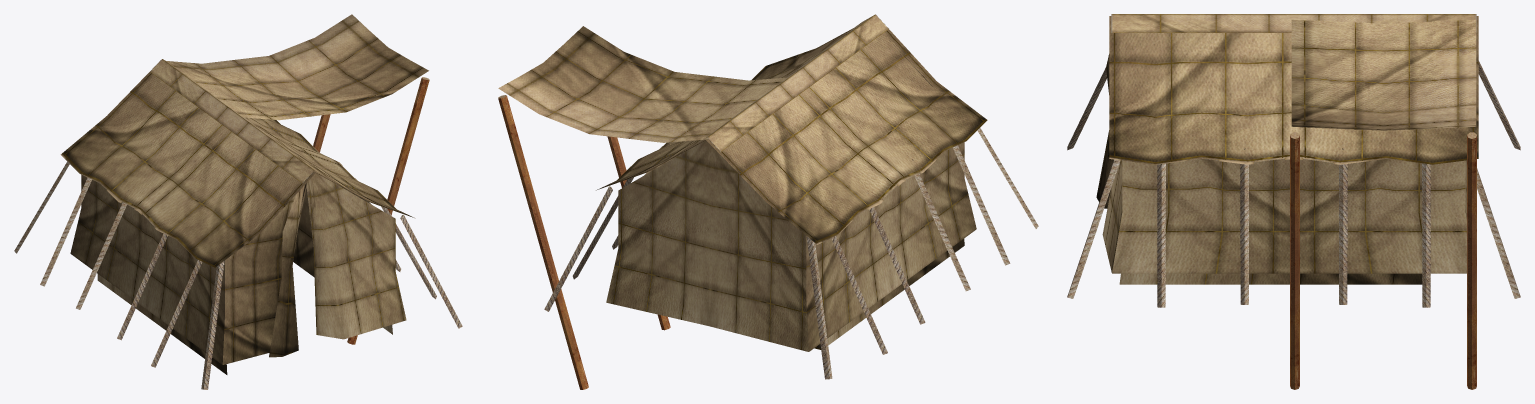
Rendered from rome_tent_b.dae.
3 renders of one model, left to right at view 1: azimuth 30°, elevation 25°; view 2: azimuth 150°, elevation 25°; view 3: azimuth 270°, elevation 25°, orthographic. The views are drawn at different scales.
Parts seen in each view (by area): view 1: Object002; view 2: Object002; view 3: Object002.
Part boxes in pixels (bbox=[...]): Object002: bbox=[14, 14, 462, 389]; Object002: bbox=[498, 14, 1038, 389]; Object002: bbox=[1067, 14, 1520, 389].
Size of the model in its own units: 9.02 by 6.58 by 8.78.
